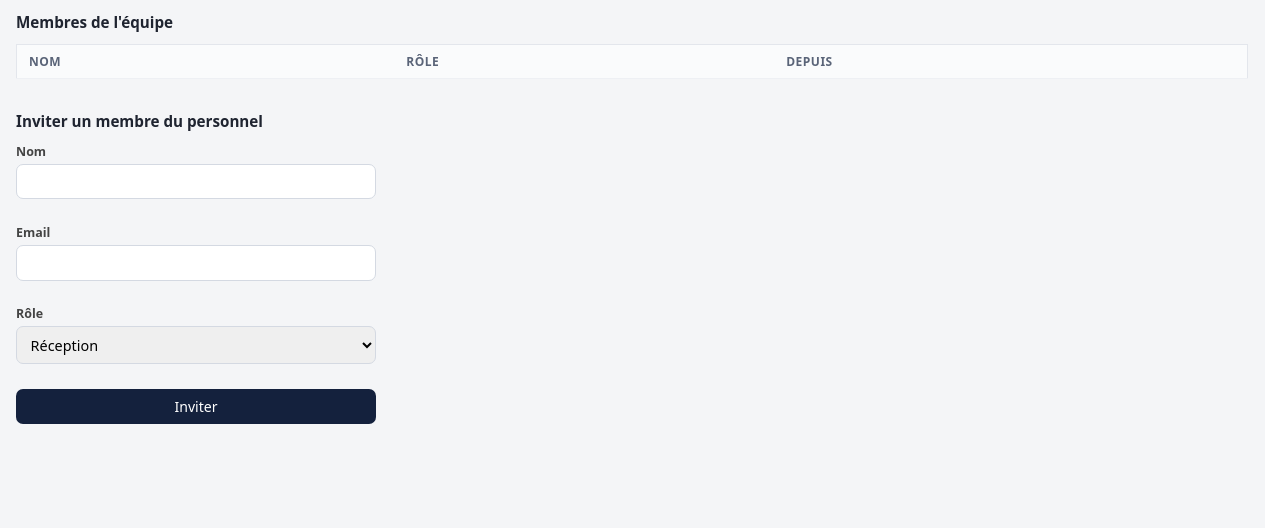
Equipe › recharge le trombinoscope après une invitation réussie
Type "X" into the field labelled "Nom" at (196, 182), box [16,164,376,199]
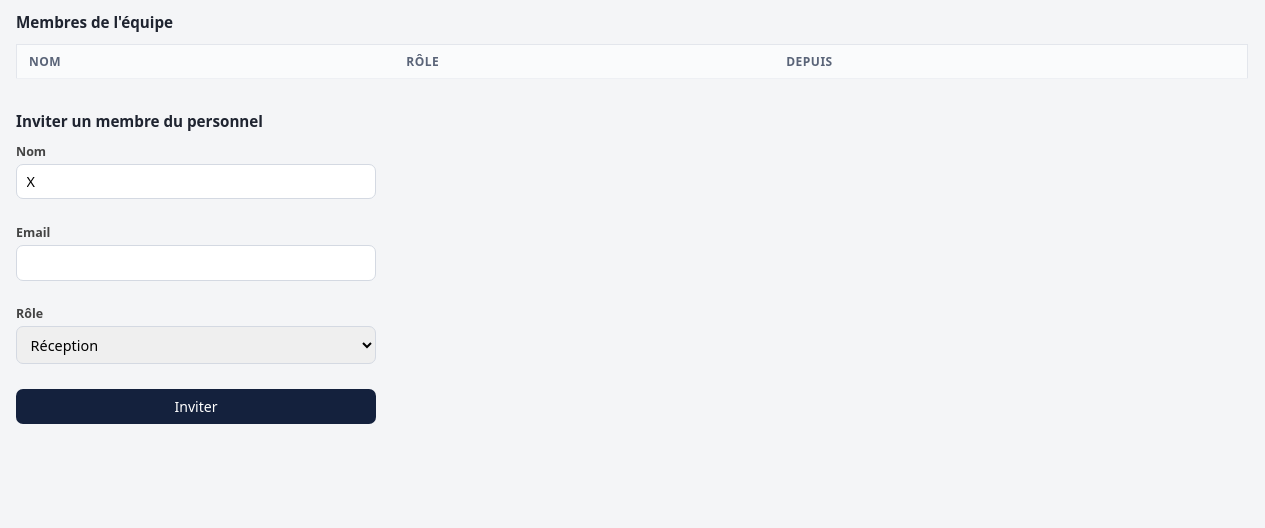
Type "x@aryv.cd" into the field labelled "Email" at (196, 263), box [16,245,376,281]
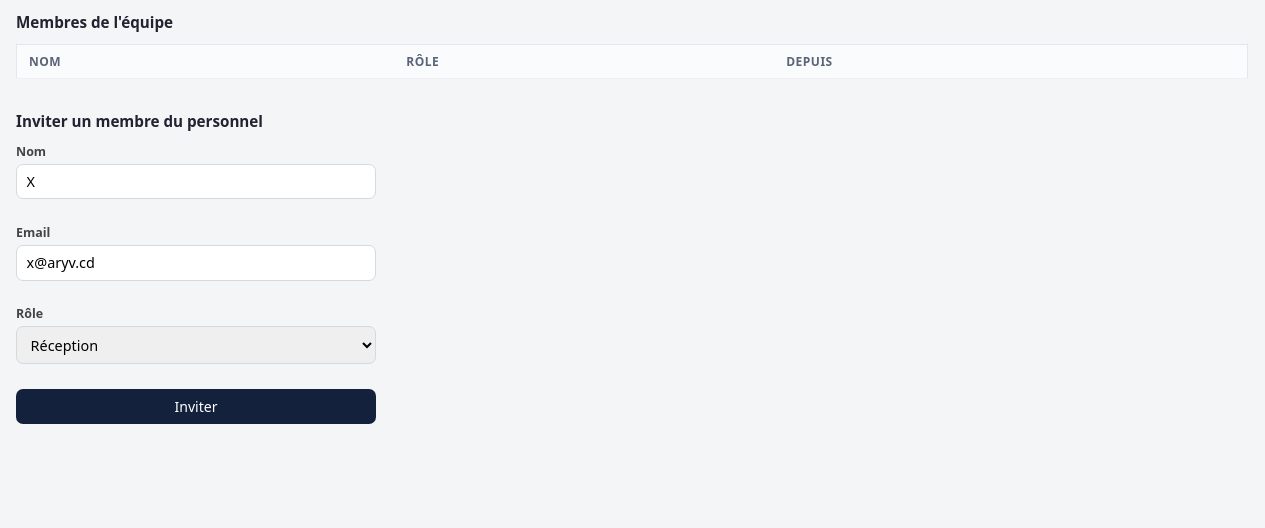
Click the button "Inviter" at (196, 406), box [16,388,376,424]
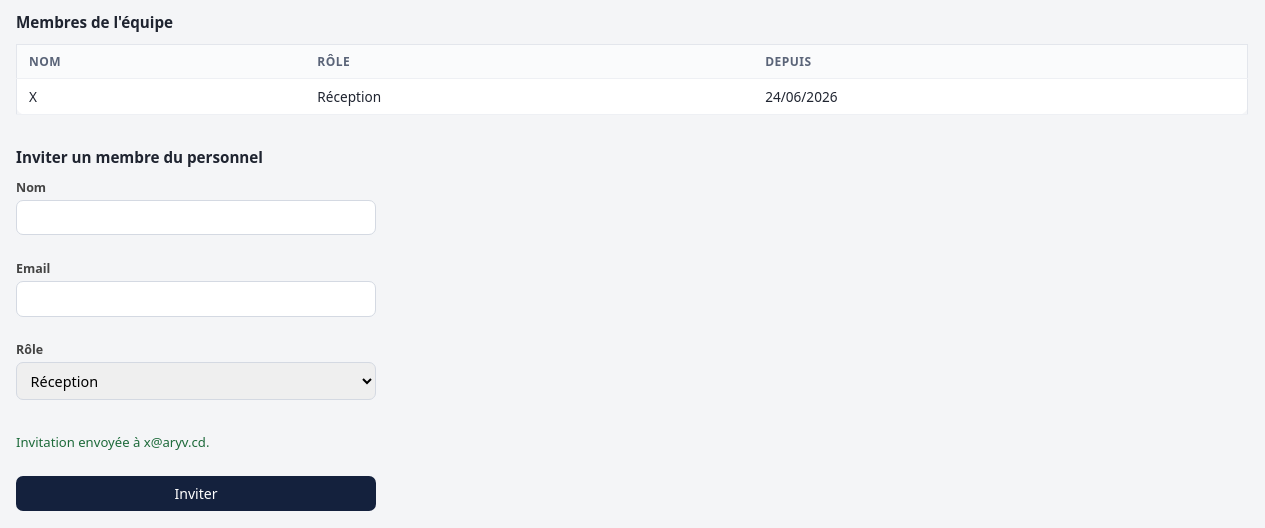
Result: the text "X" is shown at [16,78,305,114]
